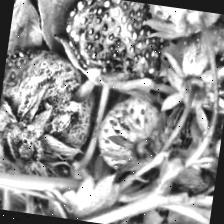Anthracnose Fruit Rot: (0, 46, 100, 171), (58, 0, 172, 93)
